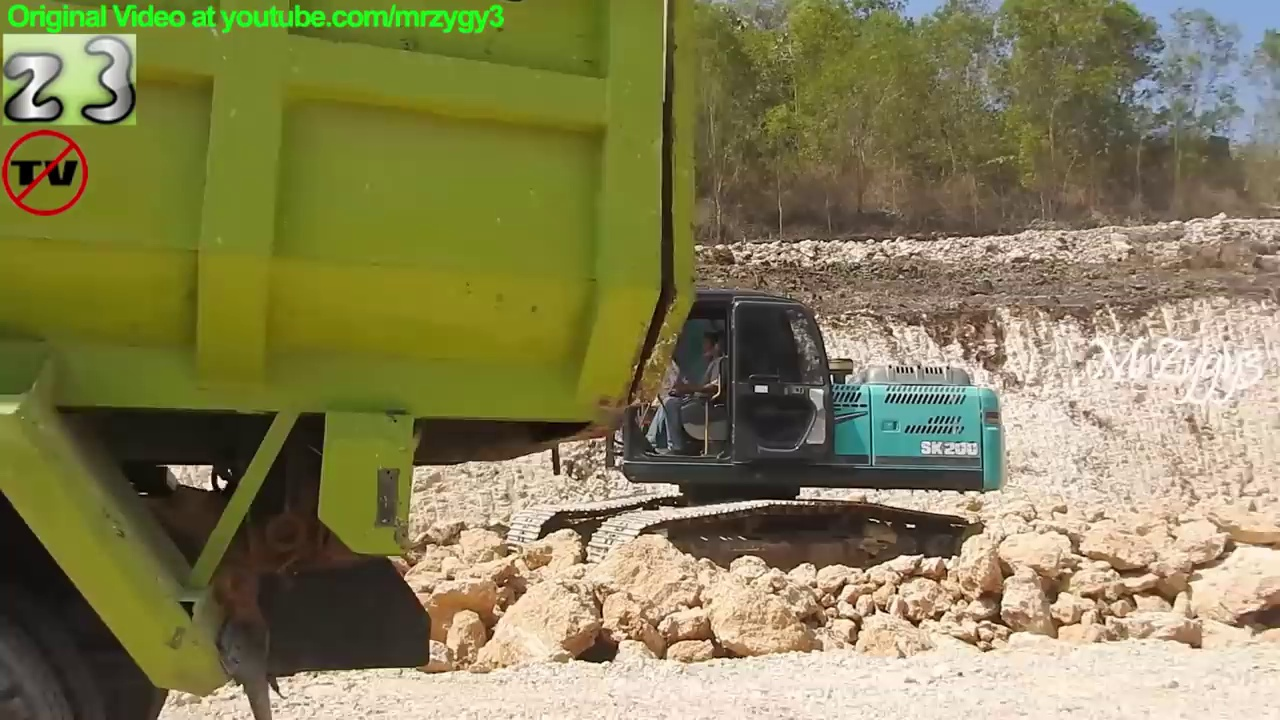excavator: (205, 89, 1015, 593)
truck: (1, 1, 707, 720)
